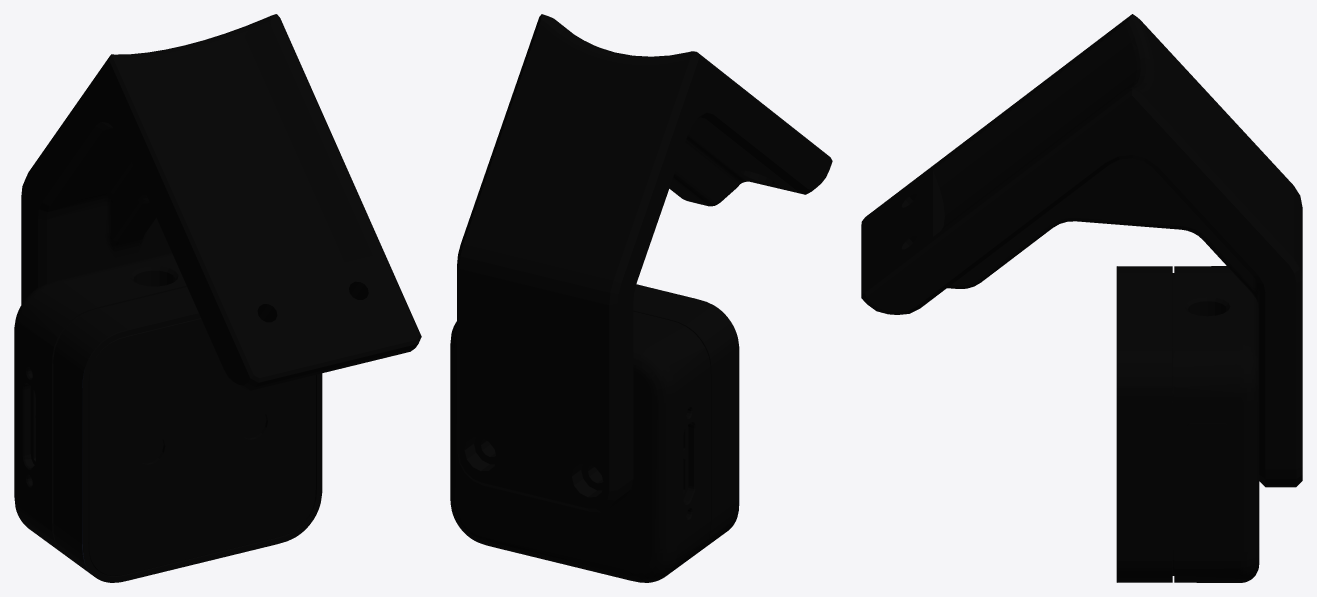
The model's file is right_D405_link.obj.
3 views of the same model, side by side, from view 1: azimuth 30°, elevation 25°; view 2: azimuth 150°, elevation 25°; view 3: azimuth 270°, elevation 25° (orthographic). The views are drawn at different scales.
Visible parts, largest first — view 1: right_D405_link; view 2: right_D405_link; view 3: right_D405_link.
Part boxes in pixels (<box>): right_D405_link: <box>14,14,421,582</box>; right_D405_link: <box>450,14,832,582</box>; right_D405_link: <box>861,14,1302,582</box>.
Size of the model in its own units: 0.0421 by 0.0874 by 0.0712.
